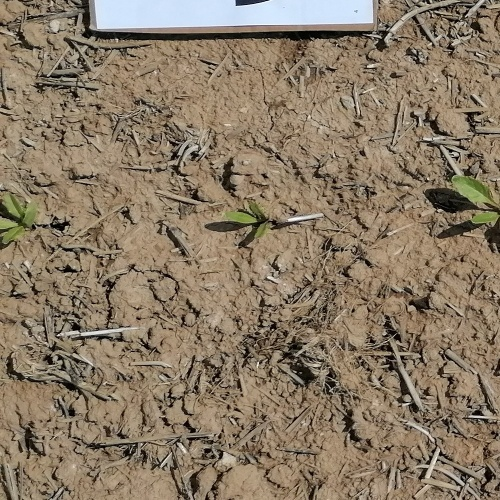beet: (449, 177, 500, 226), (0, 192, 36, 245), (225, 200, 271, 240)
